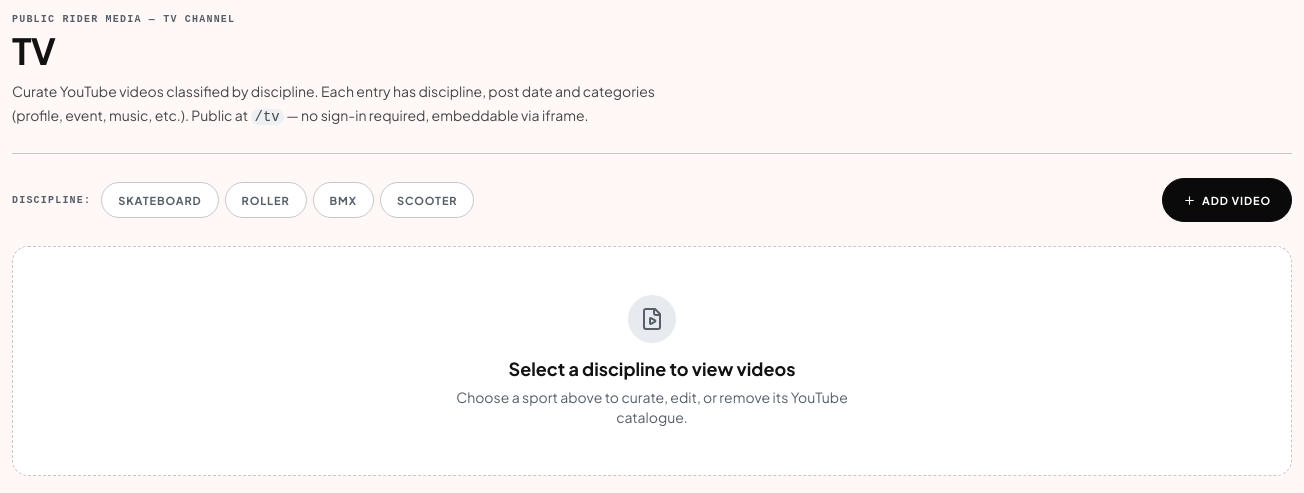
TvAdminClient › fetches and displays counts asynchronously on hover or touch
The image size is (1304, 493).
Check: the text "42" is not shown
Trigger onMouseEnter
Hover over the button "Skateboard" at (160, 200), box x1=101 y1=182 x2=219 y2=218
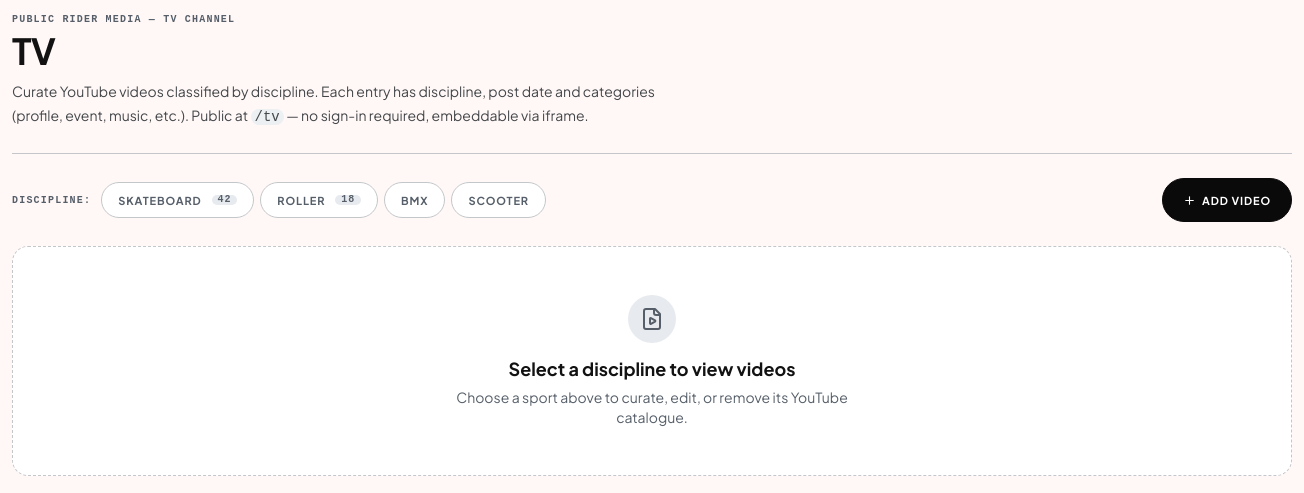
Check: the text "42" is shown, box x1=212 y1=195 x2=237 y2=205
Check: the text "18" is shown, box x1=335 y1=195 x2=361 y2=205
